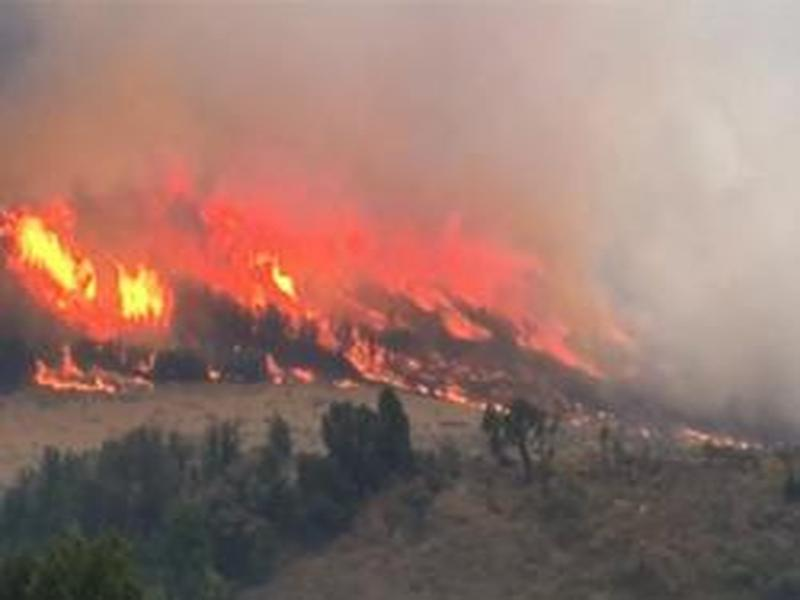FIRE: (11, 195, 622, 433)
